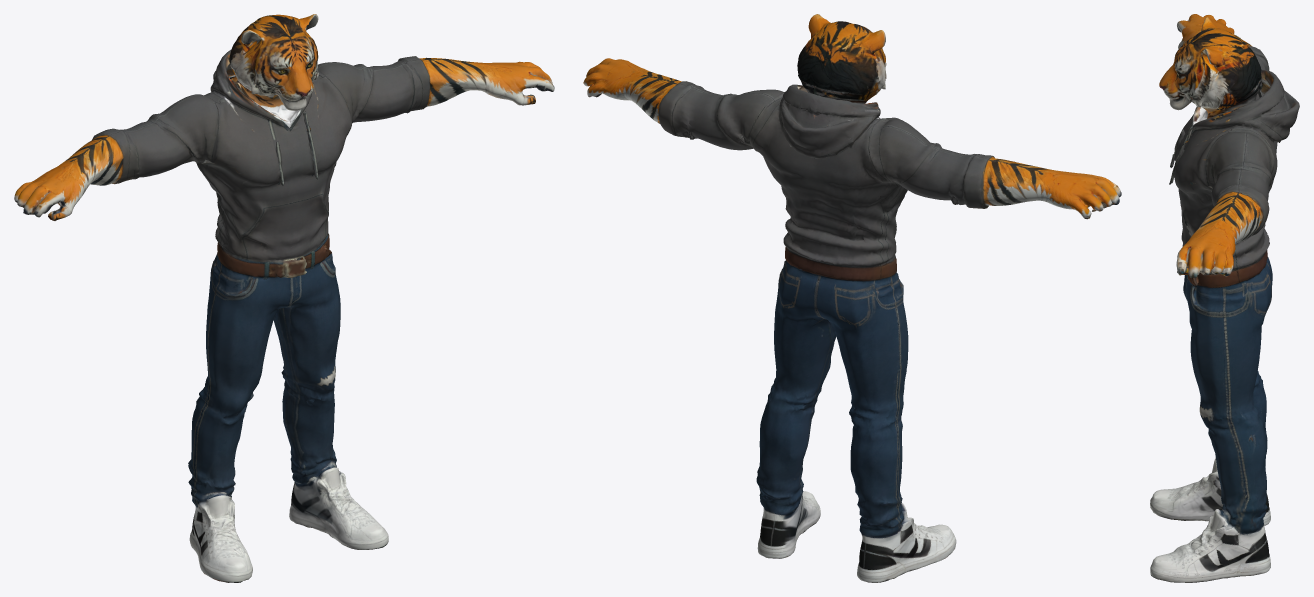
File: 09_Tiger.fbx
3 renders of one model, left to right at view 1: azimuth 30°, elevation 25°; view 2: azimuth 150°, elevation 25°; view 3: azimuth 270°, elevation 25°, orthographic. The views are drawn at different scales.
Visible parts, largest first — view 1: texture_mapping; view 2: texture_mapping; view 3: texture_mapping.
Part boxes in pixels (bbox=[...]): texture_mapping: bbox=[14, 14, 554, 582]; texture_mapping: bbox=[583, 14, 1121, 582]; texture_mapping: bbox=[1150, 14, 1299, 582].
Size of the model in its own units: 0.999 by 0.9513 by 0.2526.
1 material, 1 textured.
